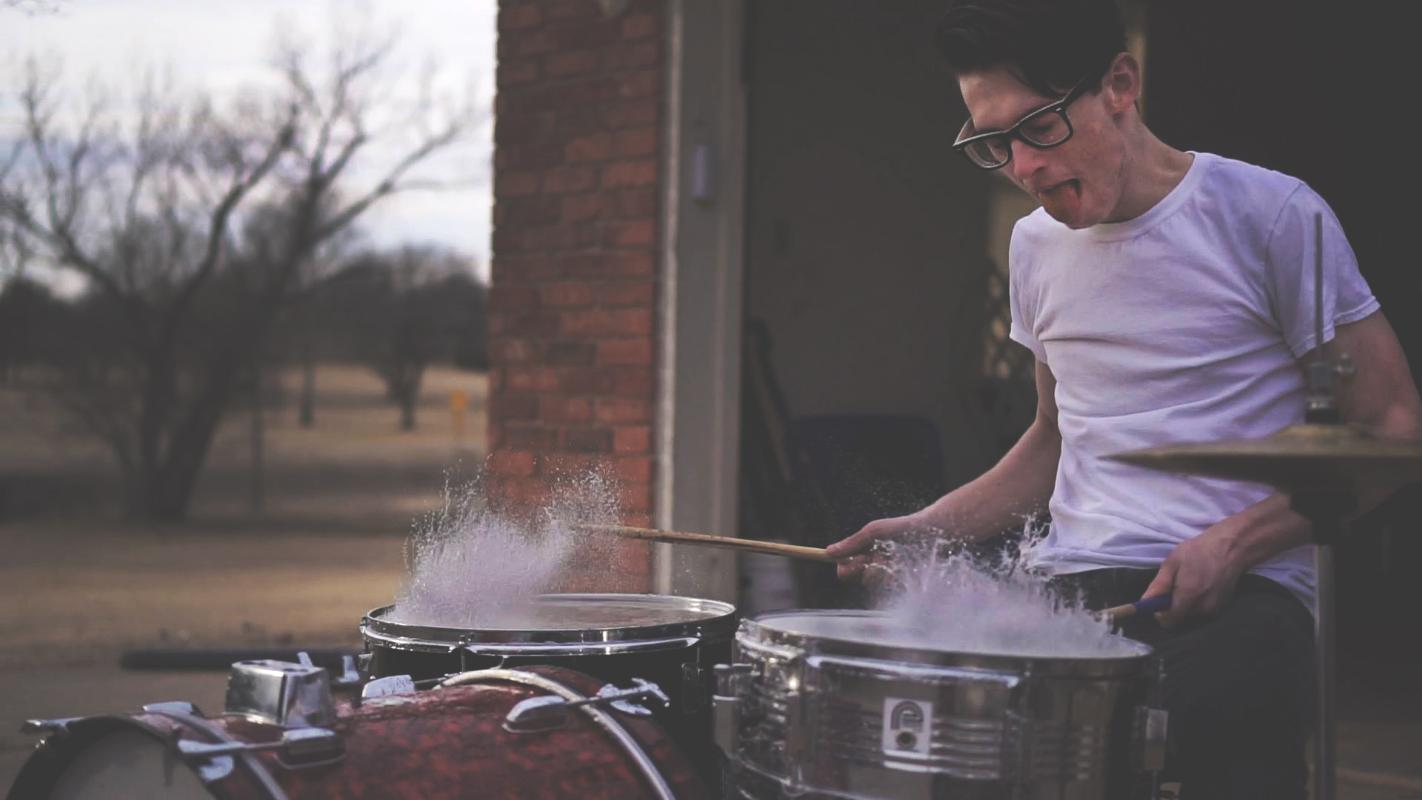Person: (821, 19, 1408, 619)
